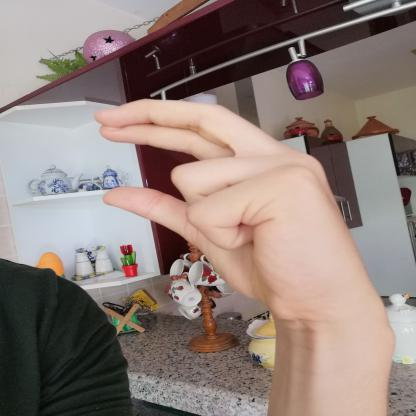DHELL: (82, 89, 390, 327)
